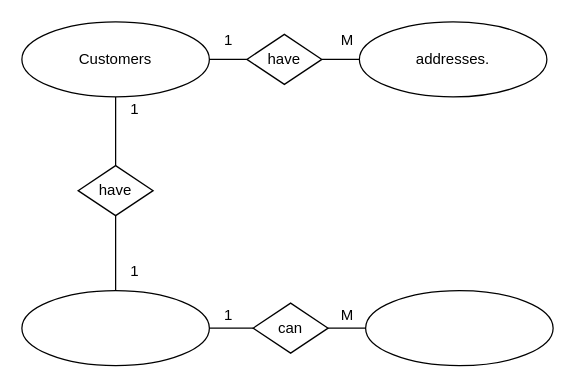
This 575x388 diagram has some shape labels left out. The centre of each missing label's shape, as x and y in pixels:
"basket" belongs at pixel 115 327.
"products." belongs at pixel 458 327.
